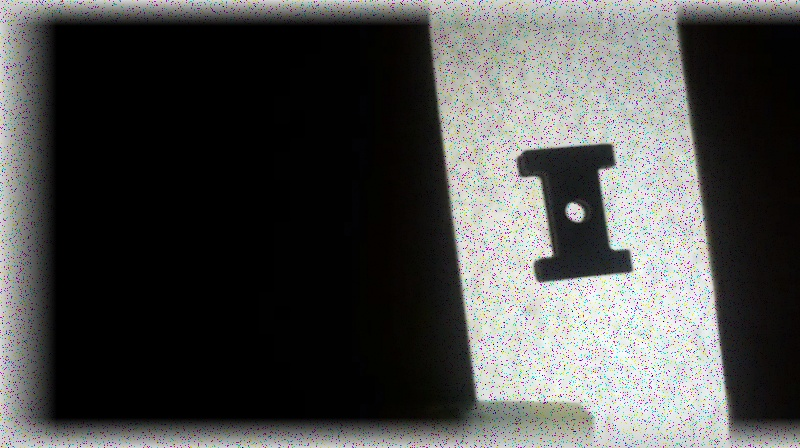O002: (516, 140, 637, 284)
